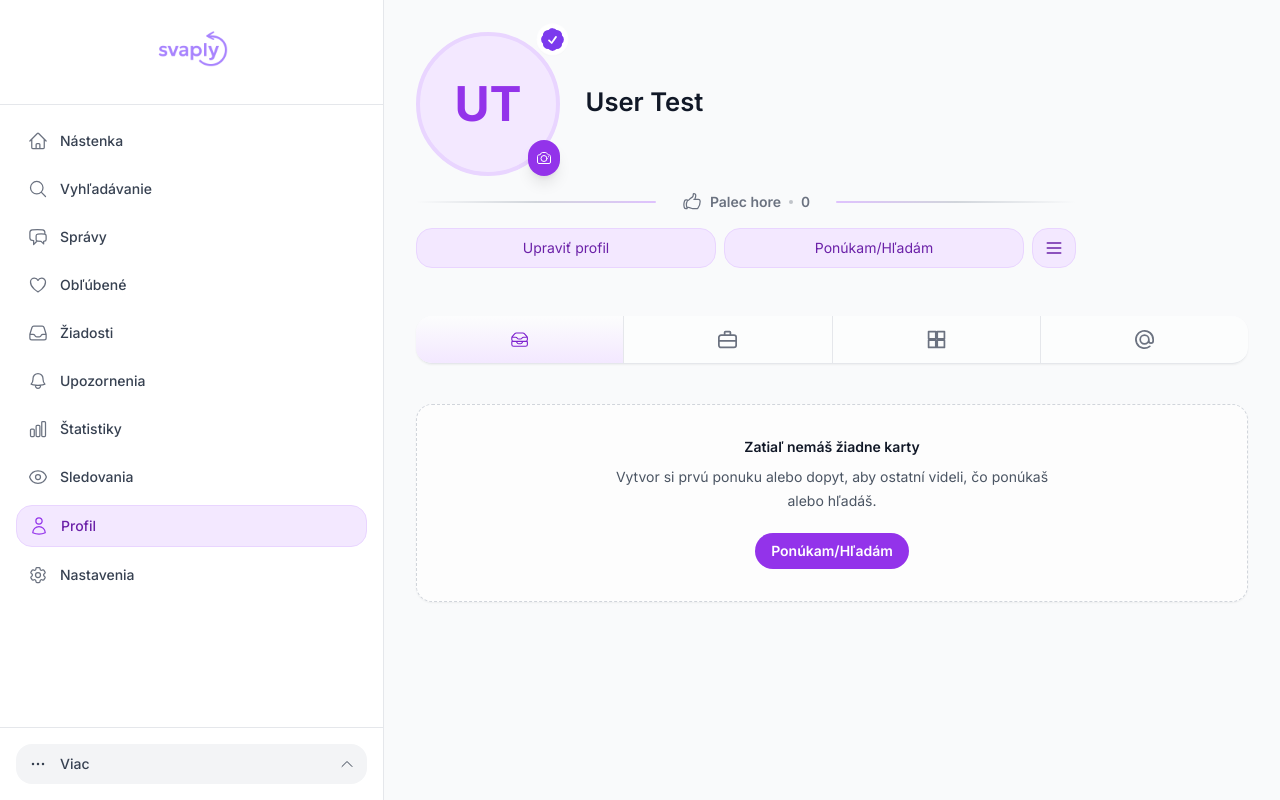
it: variant 1: vstup cez profil a „Upraviť profil" › Sledovanie: pravý panel aj šípka sú vidieť a šípka vedie rovno na profil
Step 1. Click the button "Upraviť profil" → click(566, 248), box [416,228,716,268]
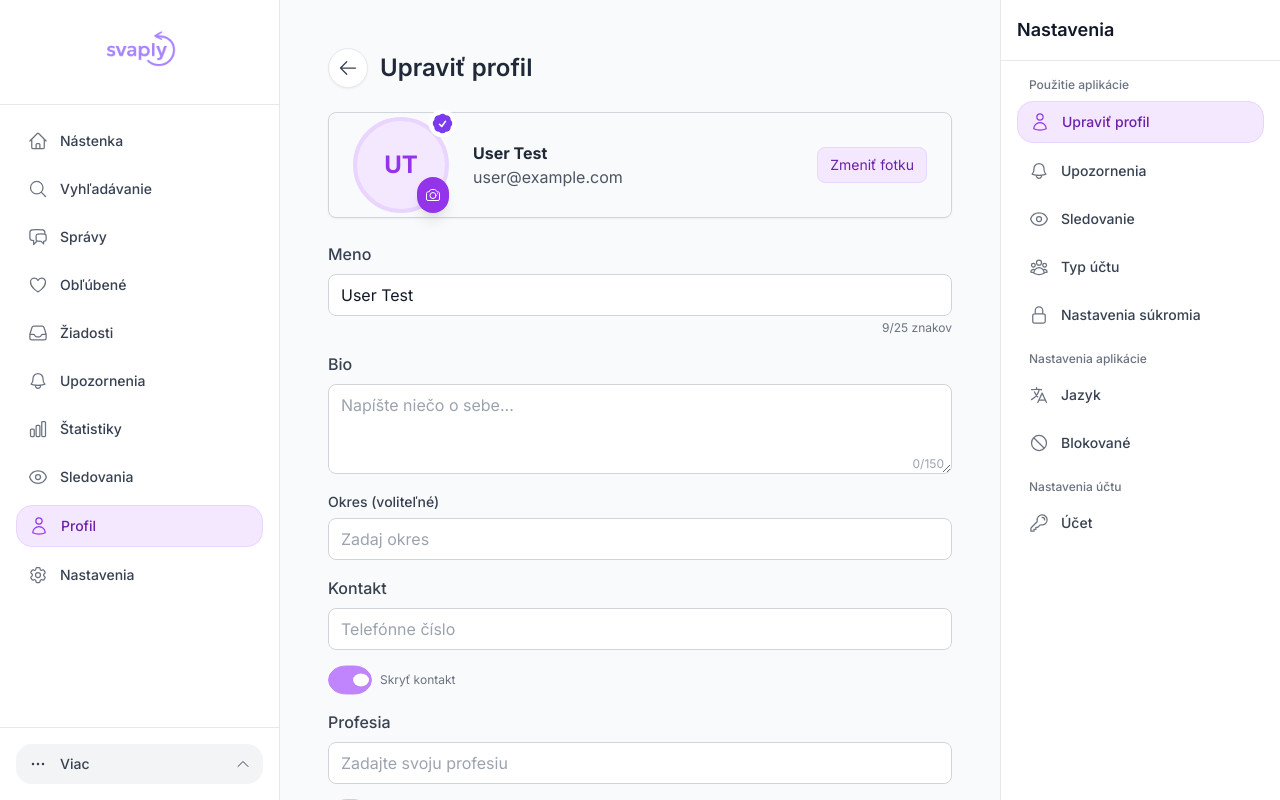
Step 2. Click the button "Sledovanie" → click(1140, 219), box [1017,199,1264,239]
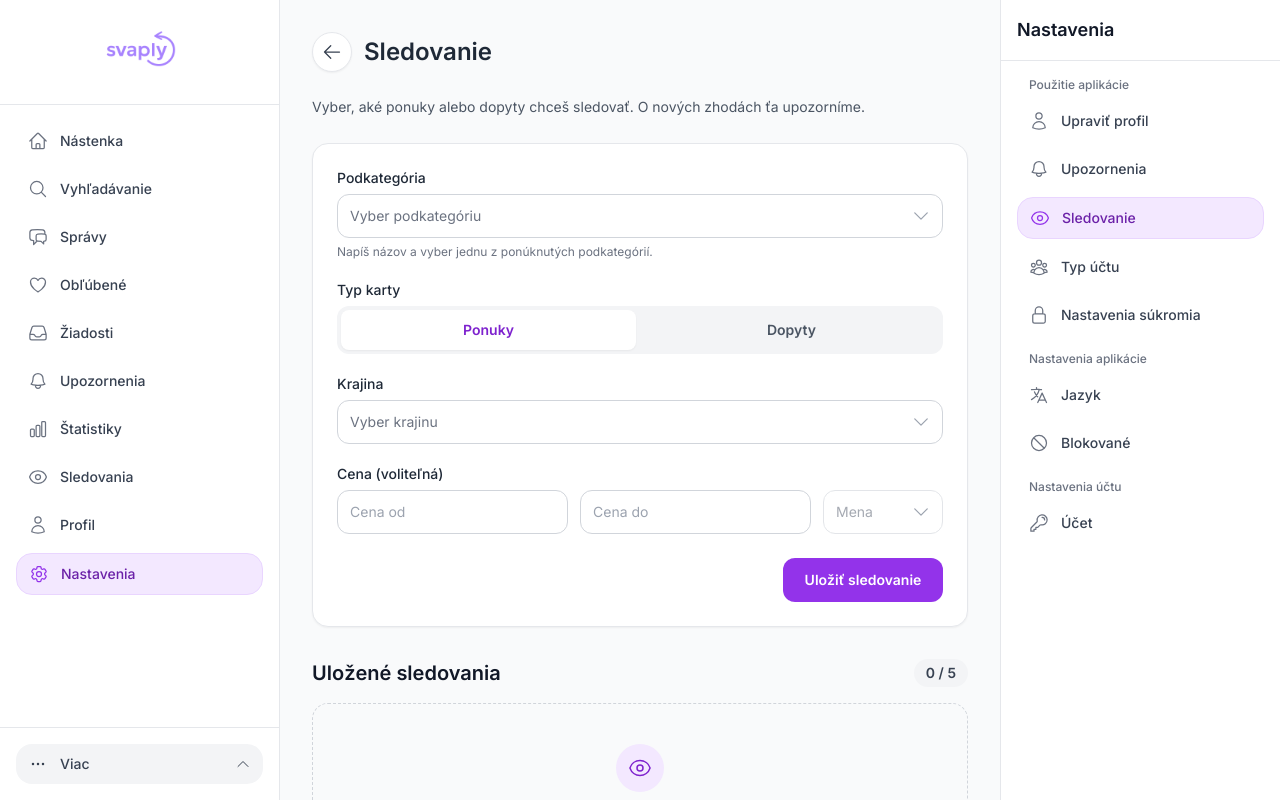
Step 3. Click the button named "Späť" → click(332, 52), box [312,32,352,72]
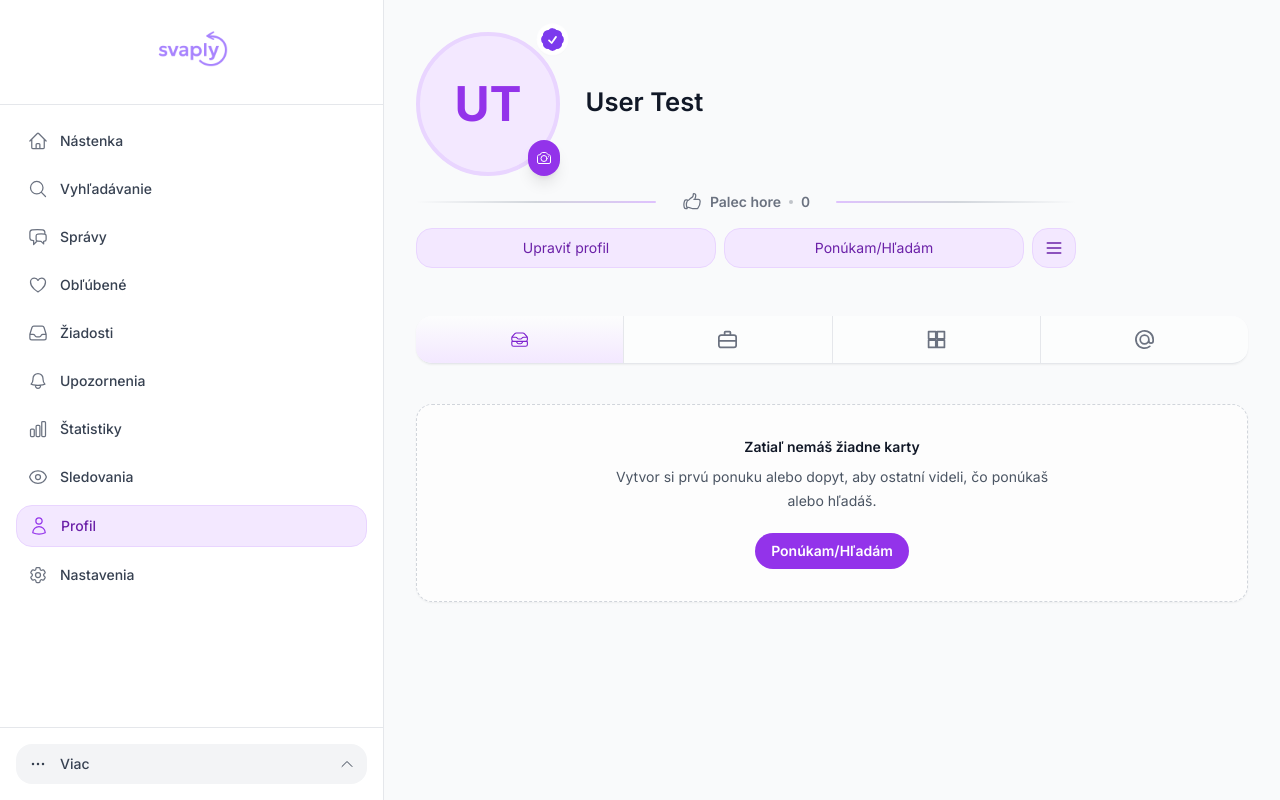
Expected: the heading "Použitie aplikácie" is gone
